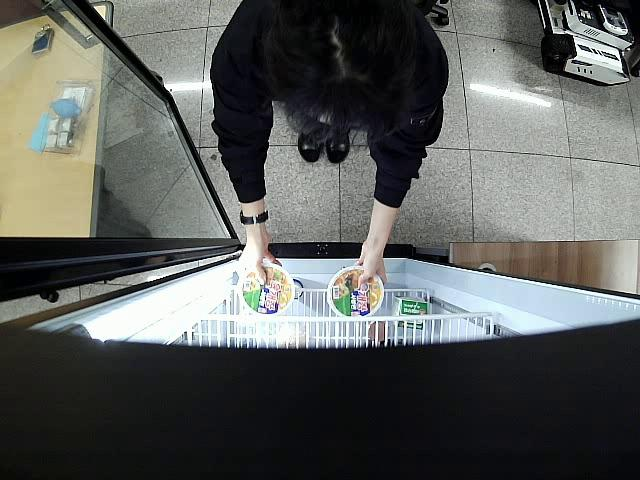00_hand: (236, 239, 283, 286), (358, 237, 386, 294)
09_yukGaeJang: (237, 263, 294, 317), (327, 266, 384, 319)
